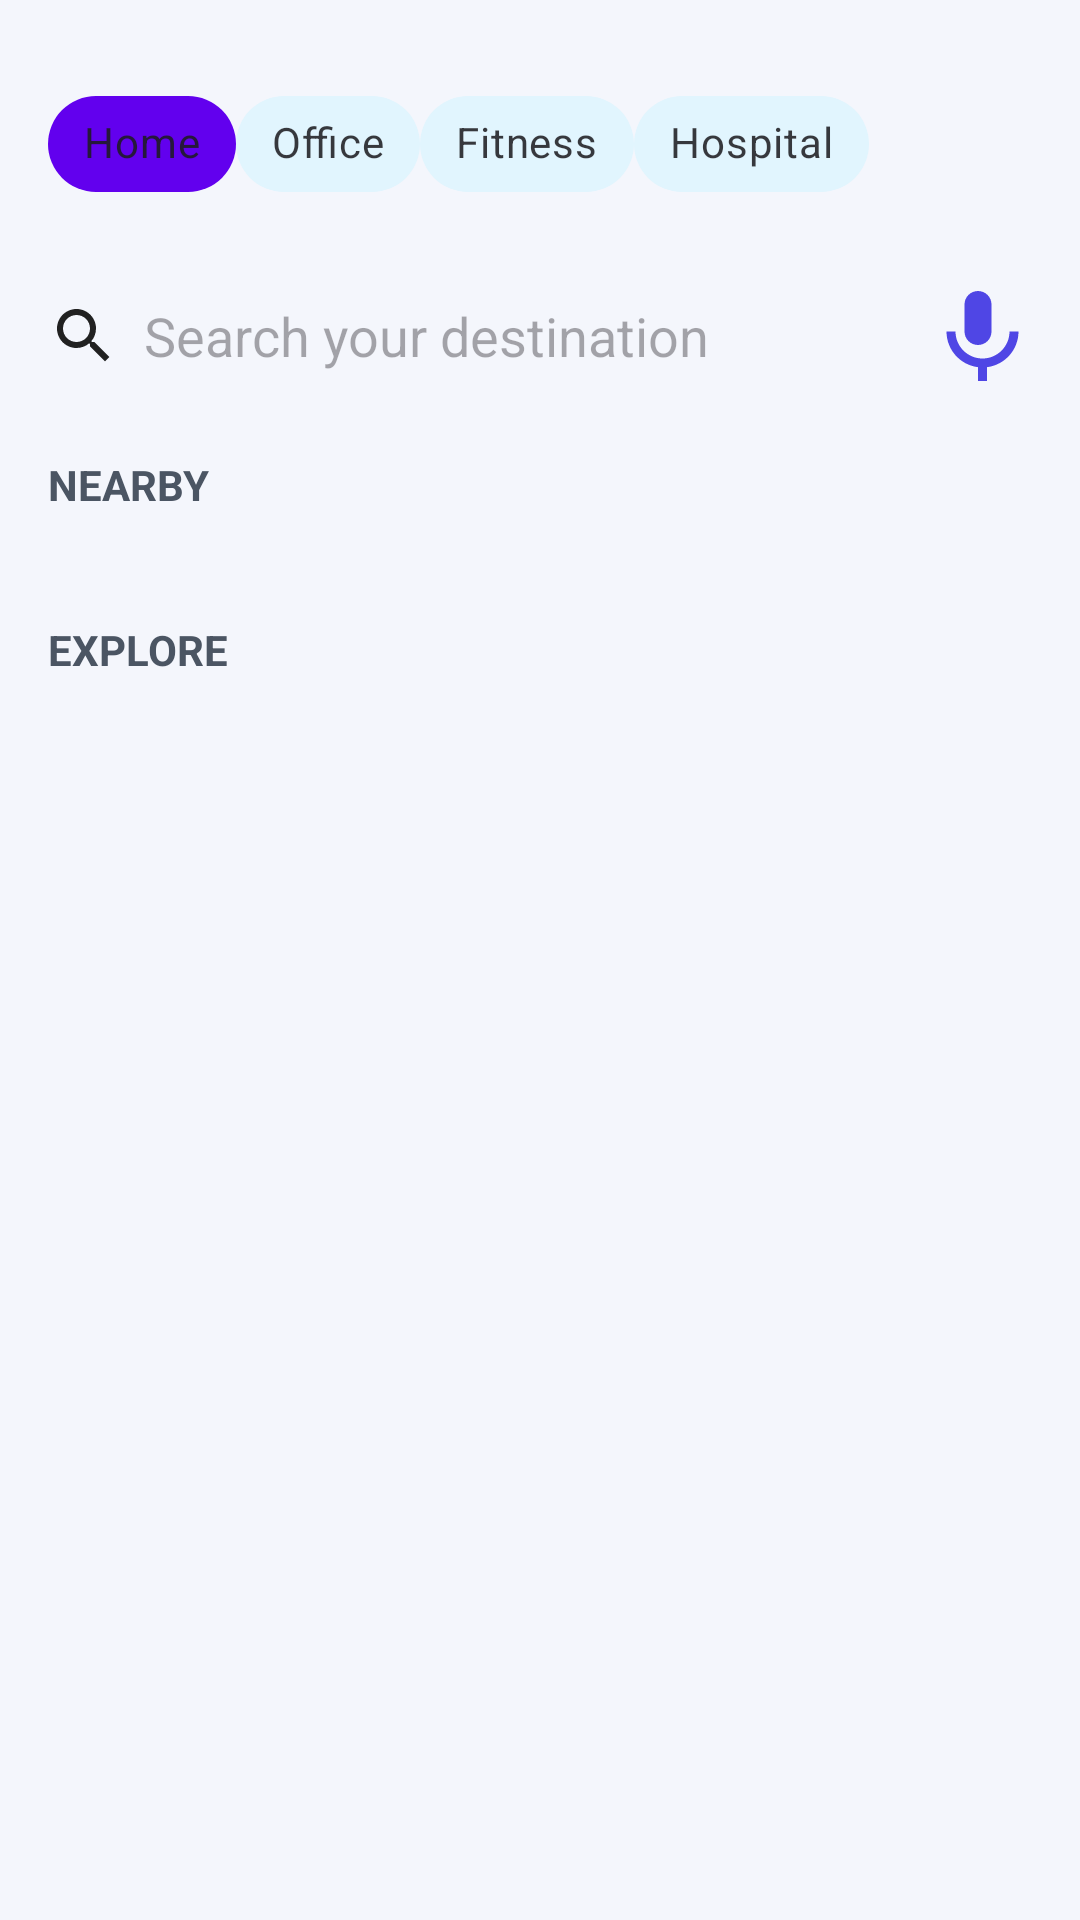

Point at icon controls on the screen. Image size 1080x1920, points as (x,y).
mic: (982,336)
